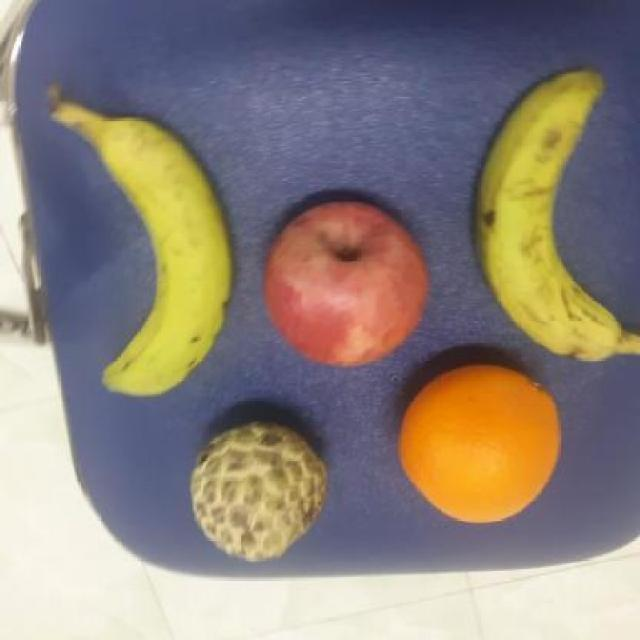apple: (262, 196, 433, 369)
banana: (475, 69, 637, 366), (76, 105, 236, 397)
oren: (392, 362, 563, 529)
sugar apple: (187, 416, 331, 564)
